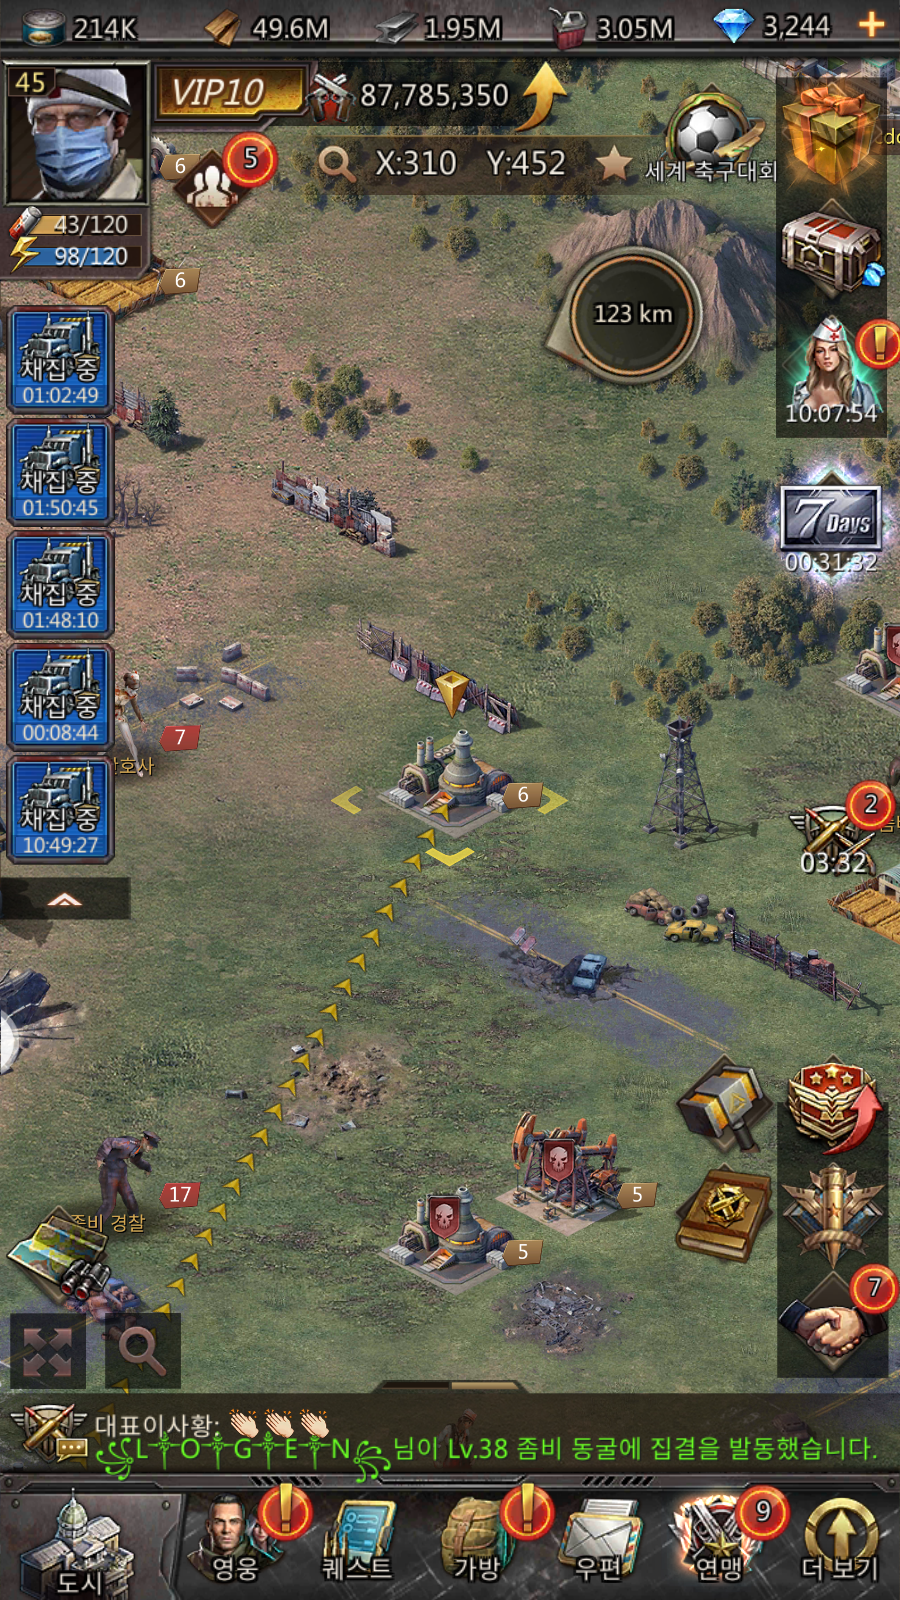city: (11, 1485, 190, 1600)
occupied_steel: (318, 642, 582, 900)
open_panel: (91, 1300, 200, 1416)
troops_cnt_5: (149, 116, 296, 251)
